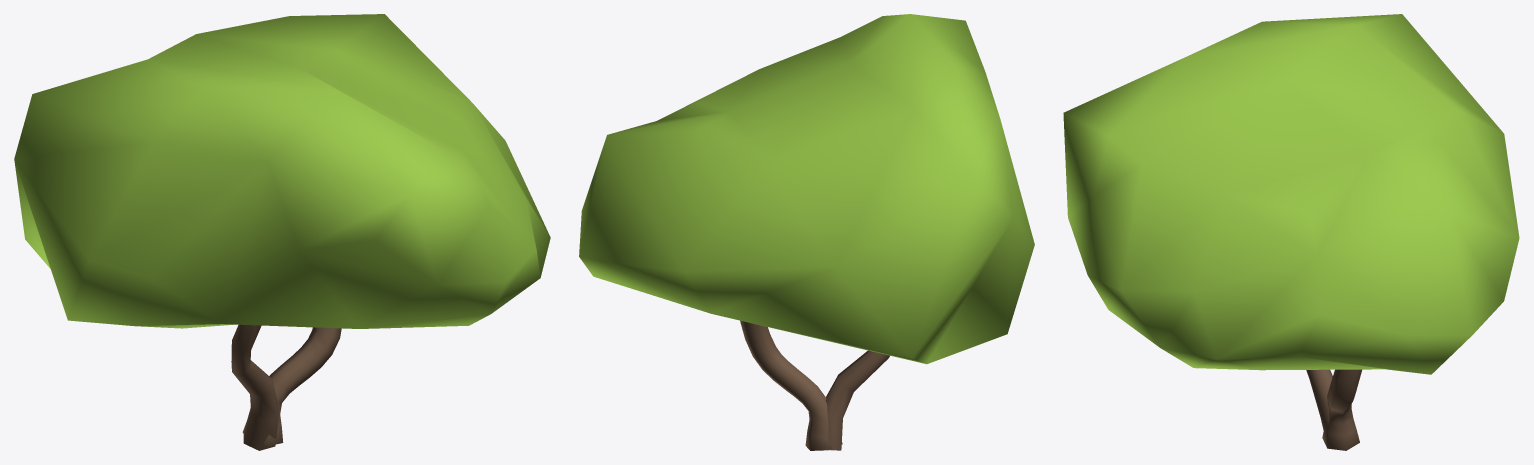
The model's file is bush_2.fbx.
The picture shows the model from 3 angles, left to right: view 1: azimuth 30°, elevation 25°; view 2: azimuth 150°, elevation 25°; view 3: azimuth 270°, elevation 25°; orthographic projection. The views are drawn at different scales.
Visible parts, largest first — view 1: Tube; view 2: Tube; view 3: Tube.
Boxes of the visible parts, <box> form: Tube: <box>14,14,550,450</box>; Tube: <box>579,14,1034,450</box>; Tube: <box>1063,14,1519,450</box>.
Size of the model in its own units: 72.07 by 61.72 by 66.46.
